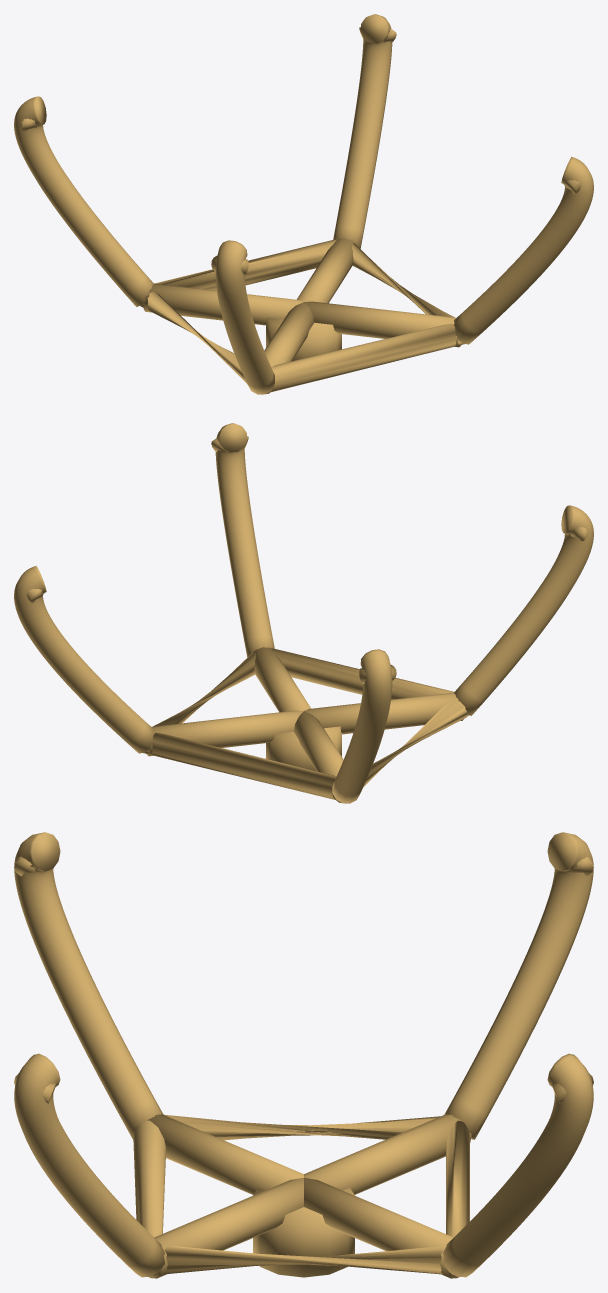
The model's file is stuller-lg-500114738-6-prong.glb.
3 renders of one model, top to bottom at view 1: azimuth 30°, elevation 25°; view 2: azimuth 150°, elevation 25°; view 3: azimuth 270°, elevation 25°, orthographic. The views are drawn at different scales.
Visible parts, largest first — view 1: Metal.110, Metal.117, Metal.115, Metal.120, Metal.118, Metal.111, Metal.113, Metal.112, Metal.114, Metal.109; view 2: Metal.110, Metal.118, Metal.120, Metal.115, Metal.117, Metal.112, Metal.114, Metal.111, Metal.113, Metal.109; view 3: Metal.110, Metal.117, Metal.118, Metal.120, Metal.115, Metal.113, Metal.112, Metal.111, Metal.114, Metal.109.
Part boxes in pixels (x1,y1,x2,y2): Metal.110: (140,239,464,392); Metal.117: (14,96,153,306); Metal.115: (333,14,392,248); Metal.120: (454,157,593,344); Metal.118: (215,240,274,394); Metal.111: (304,301,461,347); Metal.113: (143,283,303,325); Metal.112: (297,238,358,303); Metal.114: (261,302,314,394); Metal.109: (266,317,341,361); Metal.110: (143,648,468,799); Metal.118: (454,505,593,715); Metal.120: (215,423,274,657); Metal.115: (14,566,153,753); Metal.117: (332,649,392,803); Metal.112: (146,710,303,756); Metal.114: (304,692,463,734); Metal.111: (250,647,310,712); Metal.113: (293,711,346,803); Metal.109: (266,726,341,770); Metal.110: (133,1114,469,1275); Metal.117: (444,832,593,1139); Metal.118: (14,832,163,1139); Metal.120: (14,1053,164,1277); Metal.115: (443,1053,593,1277); Metal.113: (304,1114,471,1194); Metal.112: (304,1177,458,1278); Metal.111: (149,1177,303,1278); Metal.114: (147,1114,303,1194); Metal.109: (253,1187,354,1277).
Size of the model in its own units: 6.84 by 4.05 by 6.84.
